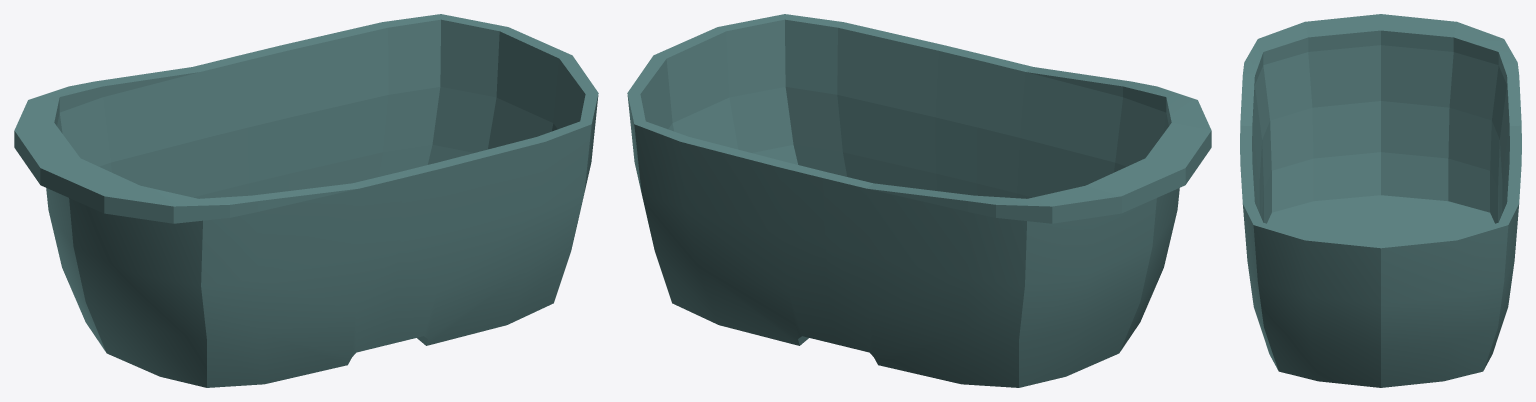
The model's file is Bathroom_Bathtub.fbx.
3 views of the same model, side by side, from view 1: azimuth 30°, elevation 25°; view 2: azimuth 150°, elevation 25°; view 3: azimuth 270°, elevation 25° (orthographic). The views are drawn at different scales.
Parts seen in each view (by area): view 1: bathtub; view 2: bathtub; view 3: bathtub.
Part boxes in pixels (x1,y1,x2,y2): bathtub: (14,14,598,387); bathtub: (627,14,1211,387); bathtub: (1240,14,1521,387).
Bounding box in the file's own units: 14.07 × 5.22 × 7.63.
